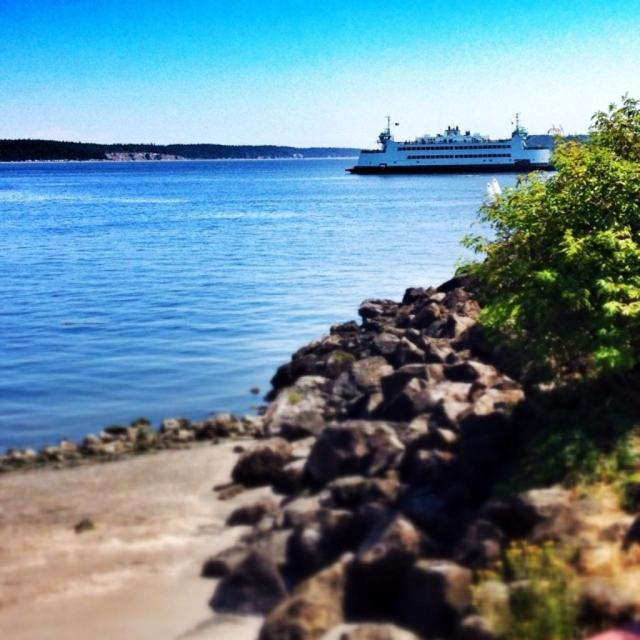Boat: (350, 102, 561, 167)
